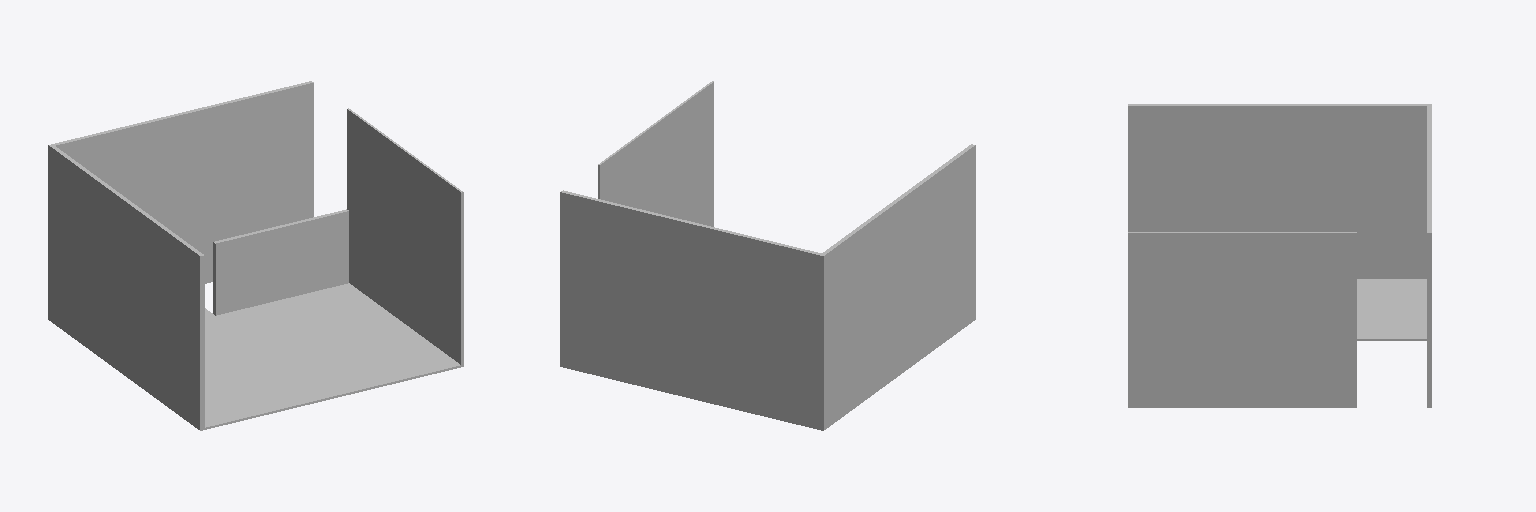
File: 2x2 second-0.obj
3 renders of one model, left to right at view 1: azimuth 30°, elevation 25°; view 2: azimuth 150°, elevation 25°; view 3: azimuth 270°, elevation 25°, orthographic.
Visible parts, largest first — view 1: 2x2 second-0; view 2: 2x2 second-0; view 3: 2x2 second-0.
Part boxes in pixels (x1,y1,x2,y2): 2x2 second-0: (48,81,463,430); 2x2 second-0: (560,81,975,430); 2x2 second-0: (1128,104,1431,407).
Size of the model in its own units: 126 by 80 by 126.